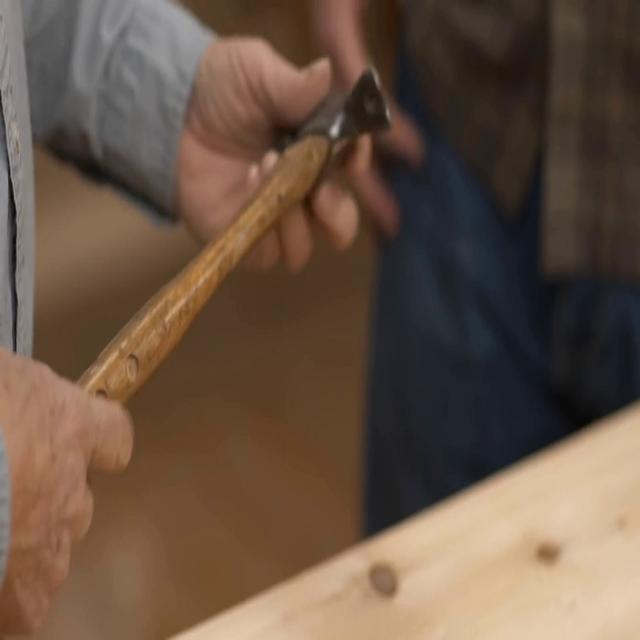hammer: (70, 60, 392, 407)
